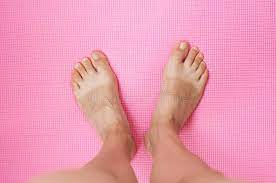feet: (142, 33, 211, 152), (66, 49, 138, 162)
